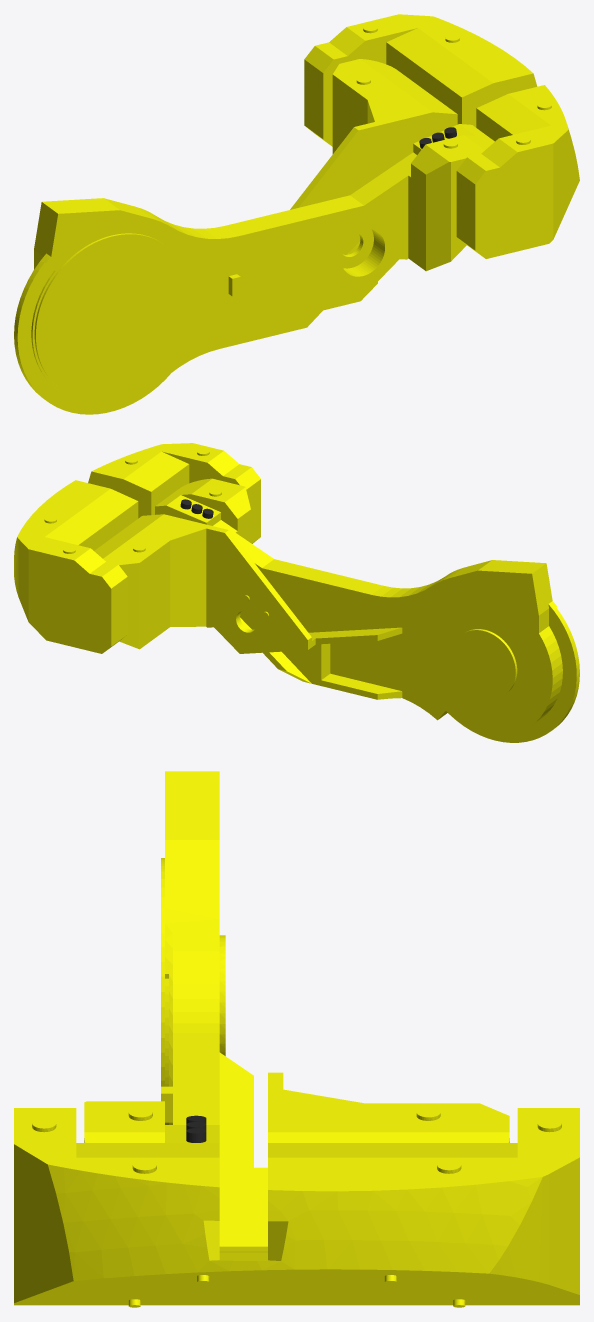
3 renders of one model, top to bottom at view 1: azimuth 30°, elevation 25°; view 2: azimuth 150°, elevation 25°; view 3: azimuth 270°, elevation 25°, orthographic. The views are drawn at different scales.
Parts seen in each view (by area): view 1: node; view 2: node; view 3: node.
Boxes of the visible parts, x1=… form: node: x1=14, y1=14, x2=579, y2=414; node: x1=14, y1=443, x2=579, y2=742; node: x1=14, y1=771, x2=579, y2=1307.
Size of the model in its own units: 2643 by 962 by 1406.
